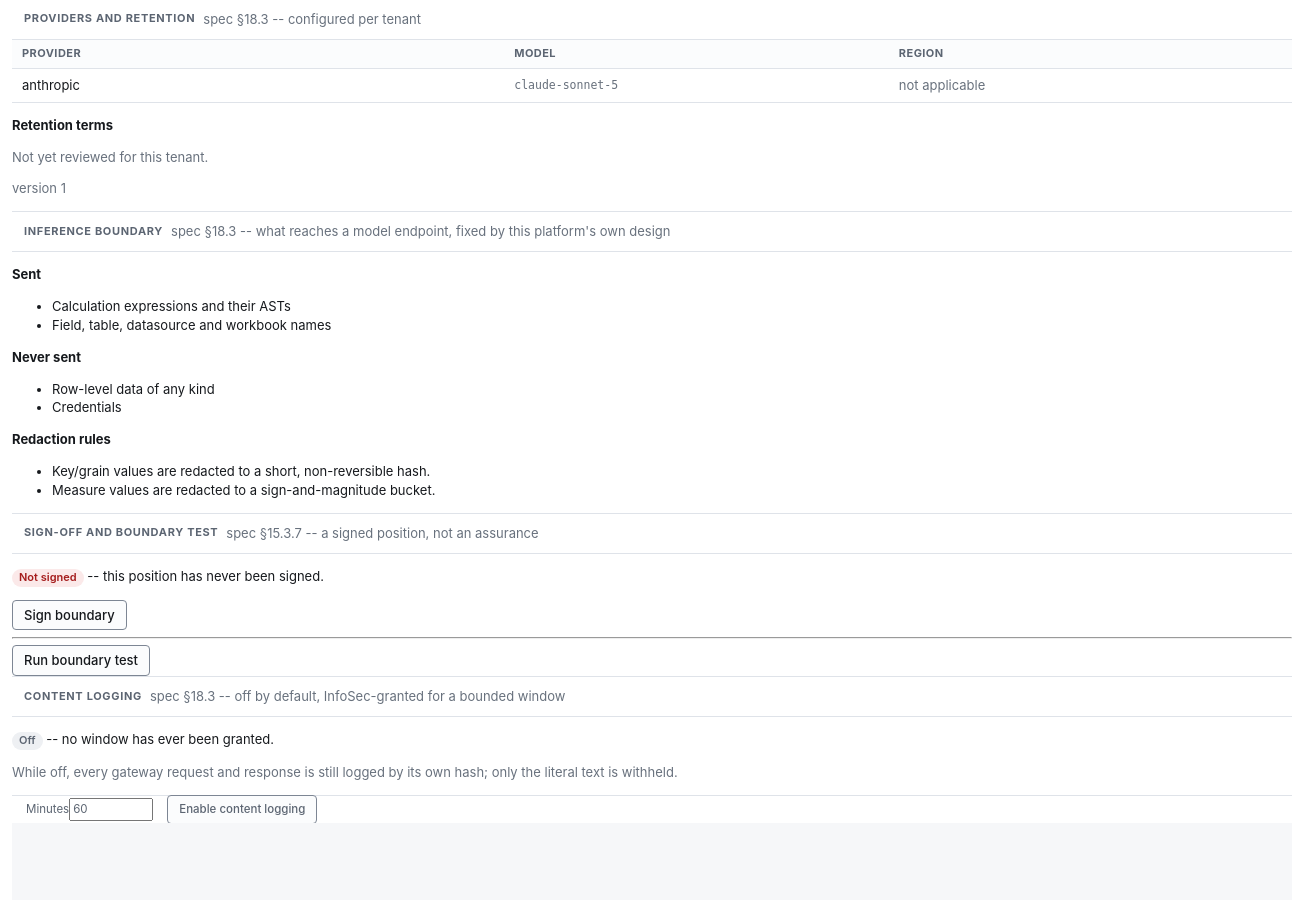
content logging (story S11.4.2's own bounded-window toggle) › lets the InfoSec reviewer enable a real, bounded window
Expected: the text "Off" is shown, [12,732,43,750]
Replace the text in the number field labelled "Minutes" with "30" at (111, 809), box [69,798,153,821]
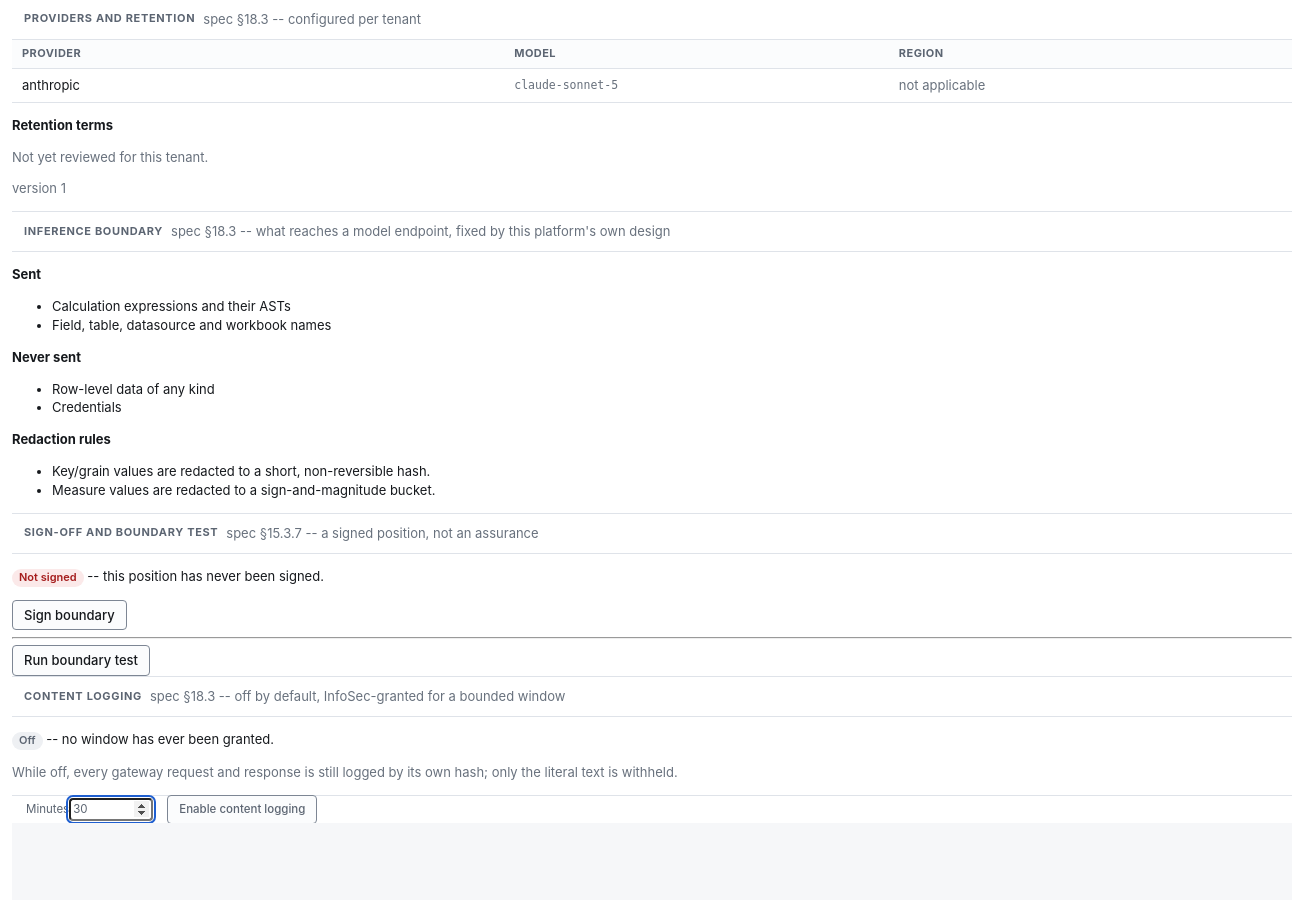
Click the button "Enable content logging" at (242, 809), box [167,795,317,824]
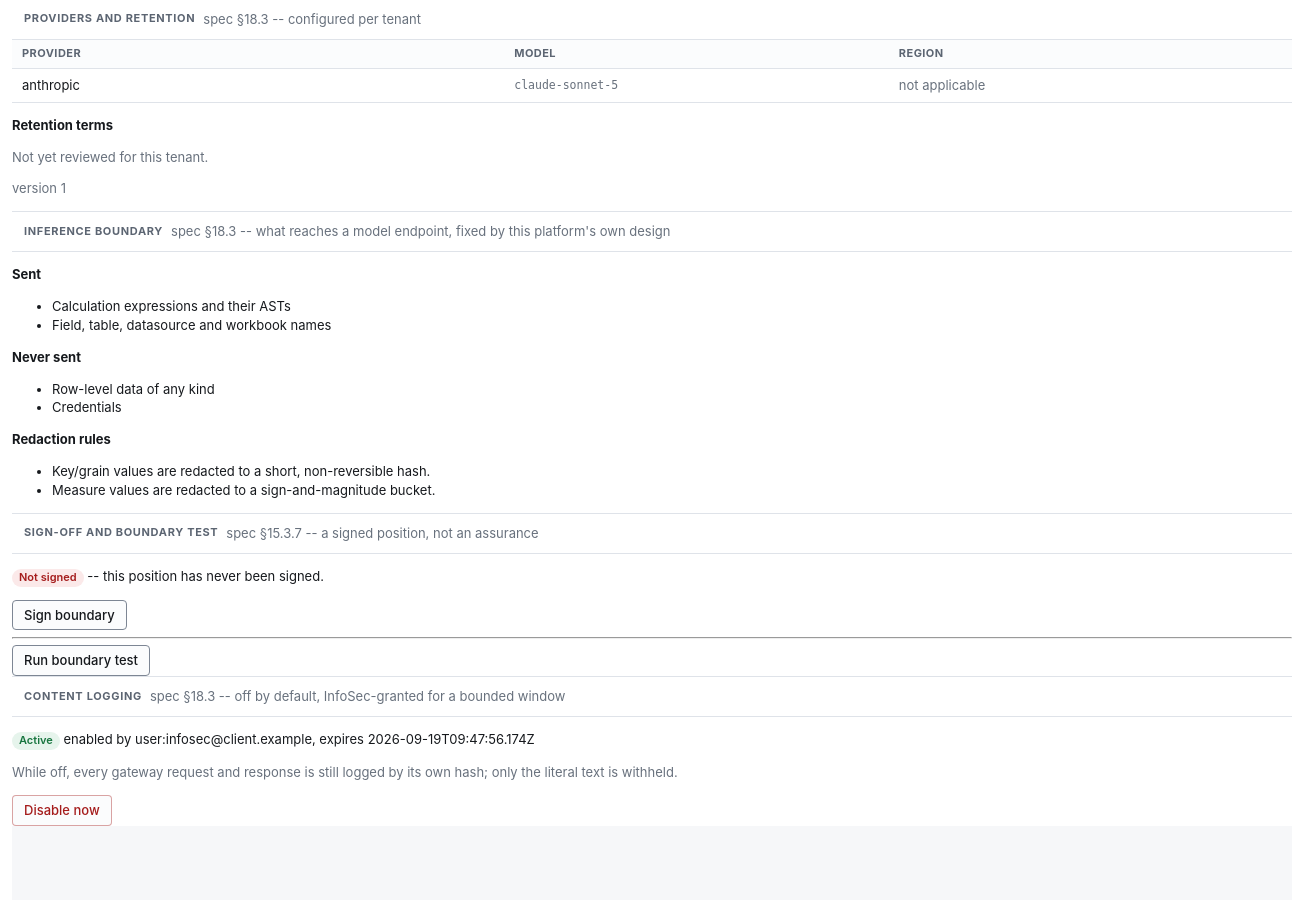
Now the text "Active" is shown, box [12,732,60,750]
Now the text "enabled by user:infosec@client.example" is shown, box [12,731,535,750]
